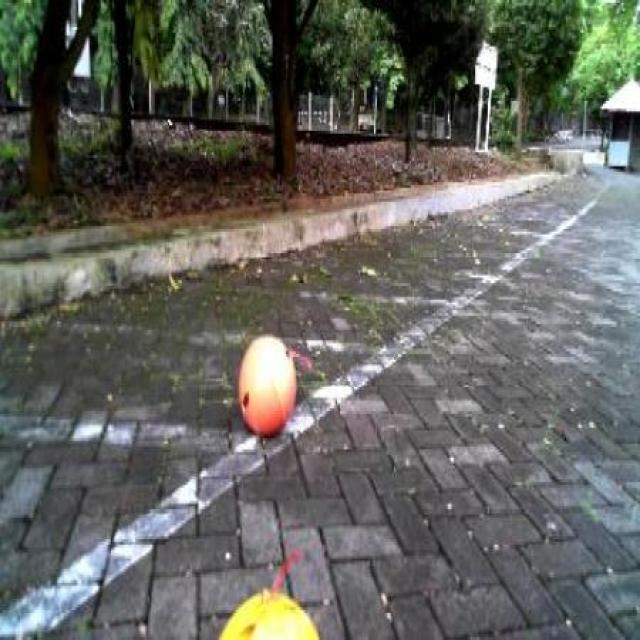buoy: (206, 562, 334, 634), (230, 330, 305, 448)
